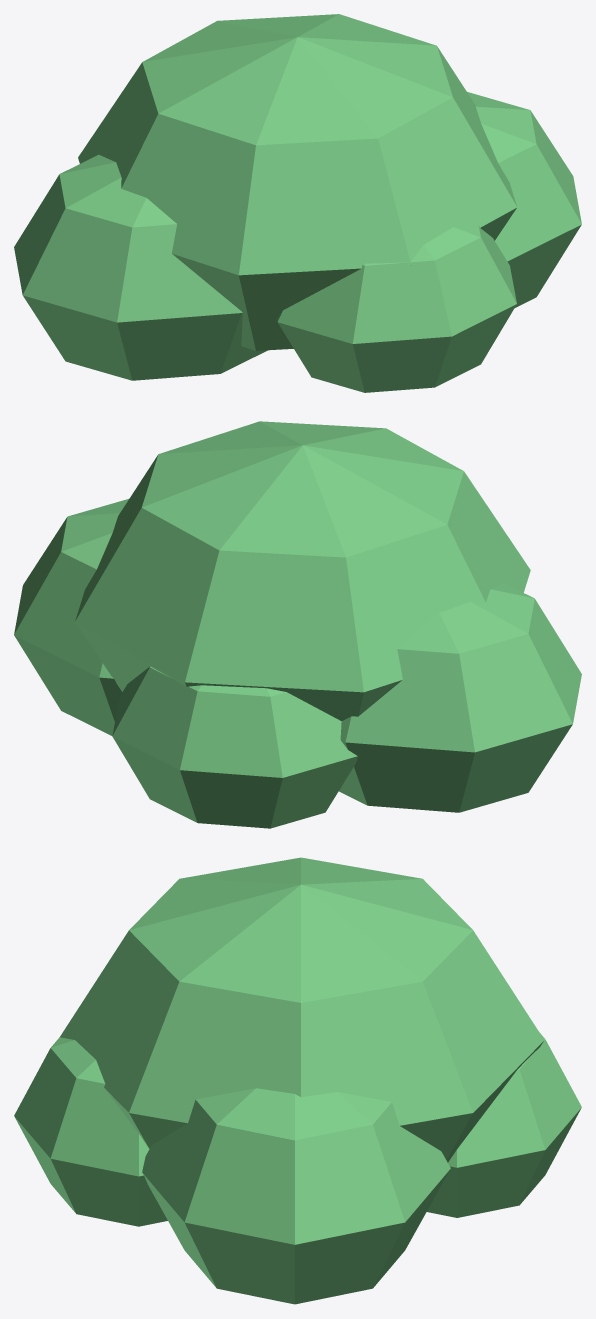
File: t3_tree_leaves.glb
3 renders of one model, top to bottom at view 1: azimuth 30°, elevation 25°; view 2: azimuth 150°, elevation 25°; view 3: azimuth 270°, elevation 25°, orthographic. The views are drawn at different scales.
Visible parts, largest first — view 1: Leaf_Center, Leaf_Left, Leaf_Back, Leaf_Right; view 2: Leaf_Center, Leaf_Left, Leaf_Front, Leaf_Right; view 3: Leaf_Center, Leaf_Right, Leaf_Back, Leaf_Front.
Boxes of the visible parts, x1=… form: Leaf_Center: x1=78, y1=14, x2=517, y2=350; Leaf_Left: x1=14, y1=154, x2=267, y2=380; Leaf_Back: x1=277, y1=225, x2=516, y2=392; Leaf_Right: x1=467, y1=92, x2=581, y2=307; Leaf_Center: x1=75, y1=421, x2=530, y2=721; Leaf_Left: x1=339, y1=583, x2=581, y2=812; Leaf_Front: x1=112, y1=666, x2=357, y2=828; Leaf_Right: x1=14, y1=499, x2=128, y2=735; Leaf_Center: x1=60, y1=857, x2=544, y2=1162; Leaf_Right: x1=142, y1=1088, x2=450, y2=1304; Leaf_Back: x1=14, y1=1037, x2=167, y2=1226; Leaf_Front: x1=427, y1=1033, x2=581, y2=1217.
Bounding box in the file's own units: 2.14 × 1.18 × 1.82.
